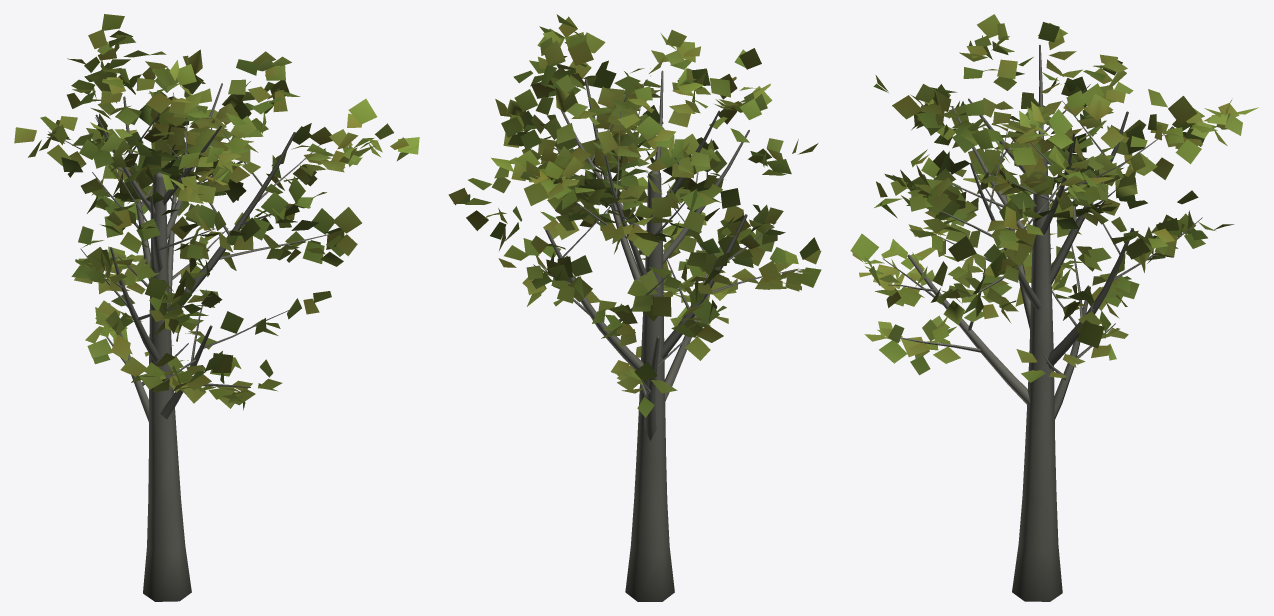
File: beech-b.lod1.glb
3 renders of one model, left to right at view 1: azimuth 30°, elevation 25°; view 2: azimuth 150°, elevation 25°; view 3: azimuth 270°, elevation 25°, orthographic. The views are drawn at different scales.
Bounding box in the file's own units: 5.63 × 9.96 × 6.51.
